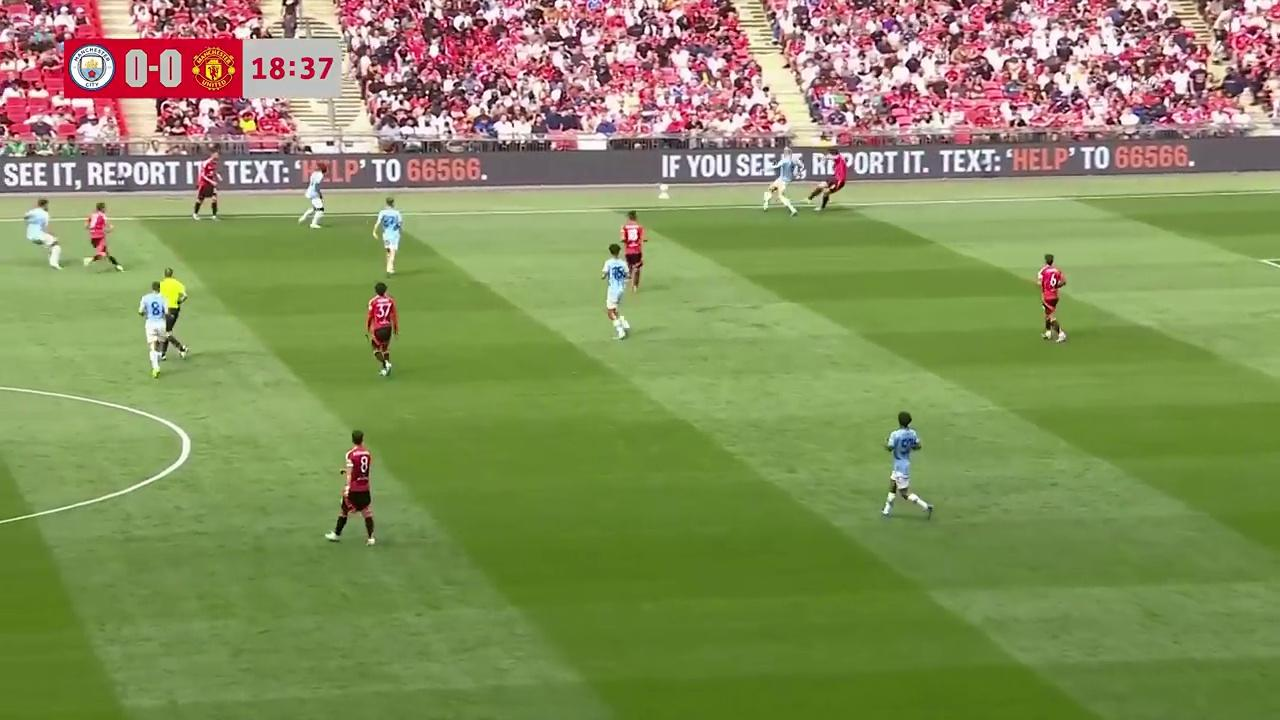ball: (762, 186, 775, 206)
player: (881, 411, 934, 521), (325, 431, 376, 545), (137, 279, 171, 376), (365, 282, 398, 376), (600, 245, 631, 338), (1036, 253, 1067, 343), (23, 198, 62, 269), (82, 203, 122, 271), (808, 148, 851, 210), (373, 197, 402, 274), (621, 212, 647, 291), (762, 165, 798, 215), (191, 160, 220, 222), (298, 165, 326, 228)
referee: (157, 267, 188, 363)
